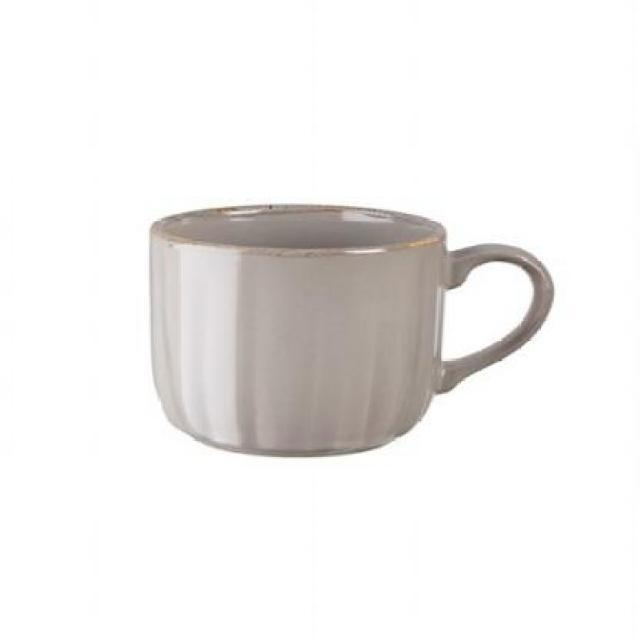taza: (147, 201, 557, 459)
